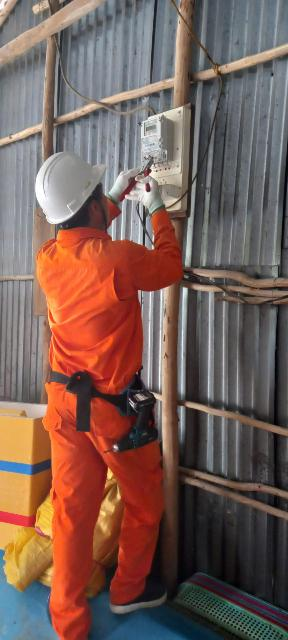gloves: (118, 173, 174, 213), (108, 157, 138, 219)
harness: (19, 355, 177, 414)
helmet: (28, 147, 116, 231)
shoes: (101, 577, 195, 617)
